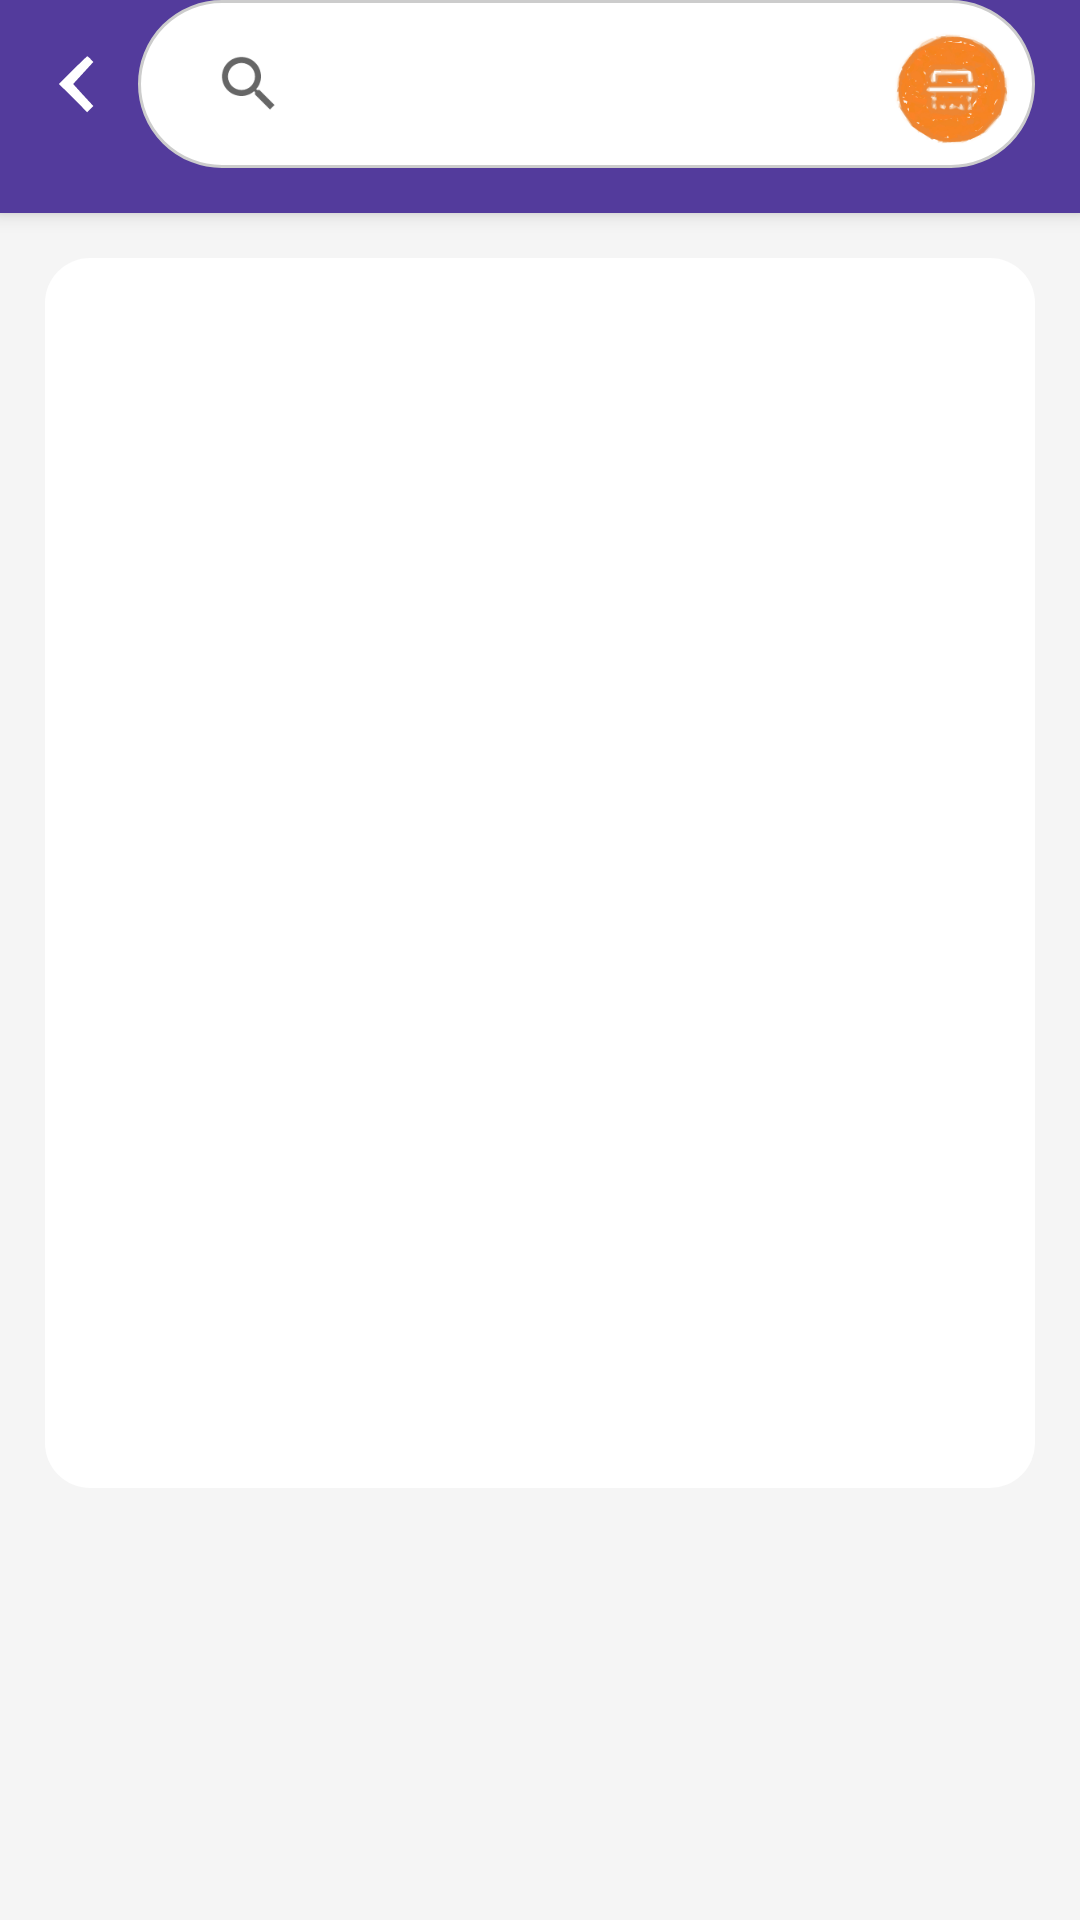

Named icons in this screenshot (1080×1920) and their bounding boxes, region(x1, y1, x2, y2):
arrow previous: region(59, 56, 93, 112)
